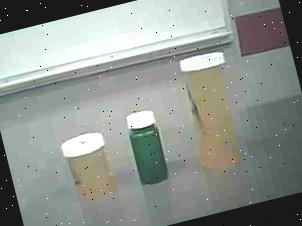Bottle A: (166, 43, 259, 185)
Bottle B: (54, 122, 128, 204)
Bottle C: (112, 96, 177, 194)
